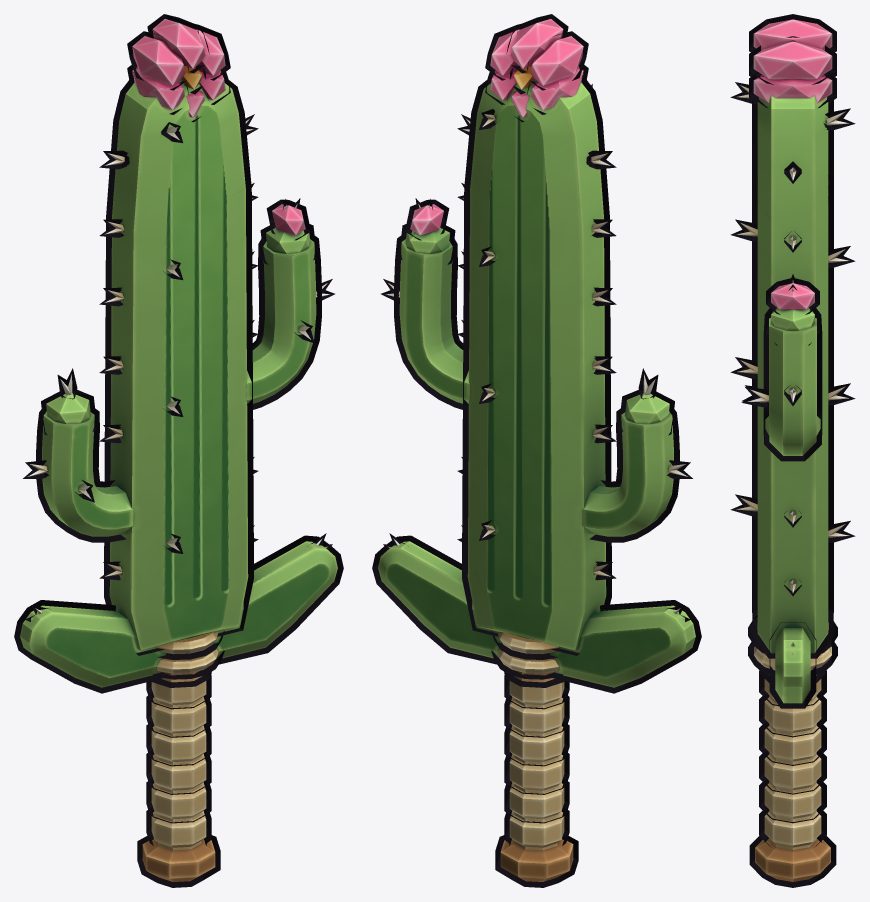
Rendered from CactusSword.fbx.
3 renders of one model, left to right at view 1: azimuth 30°, elevation 25°; view 2: azimuth 150°, elevation 25°; view 3: azimuth 270°, elevation 25°, orthographic.
Parts seen in each view (by area): view 1: CactusSword, CactusSwordOutline; view 2: CactusSword, CactusSwordOutline; view 3: CactusSword, CactusSwordOutline.
Part boxes in pixels (x1,y1,x2,y2): CactusSword: (20,19,337,881); CactusSwordOutline: (14,14,343,887); CactusSword: (378,19,695,881); CactusSwordOutline: (372,14,701,887); CactusSword: (736,19,849,881); CactusSwordOutline: (730,14,855,887).
Size of the model in its own units: 136 by 353 by 46.36.
Materials: 2 (1 with a texture image).
